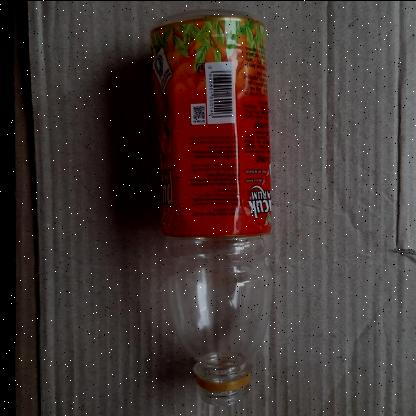Plastic Bottle: (148, 11, 272, 407)
